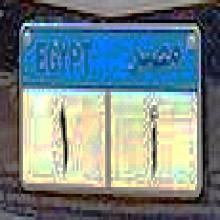1: (56, 102, 72, 174)
alif: (146, 104, 162, 173)
